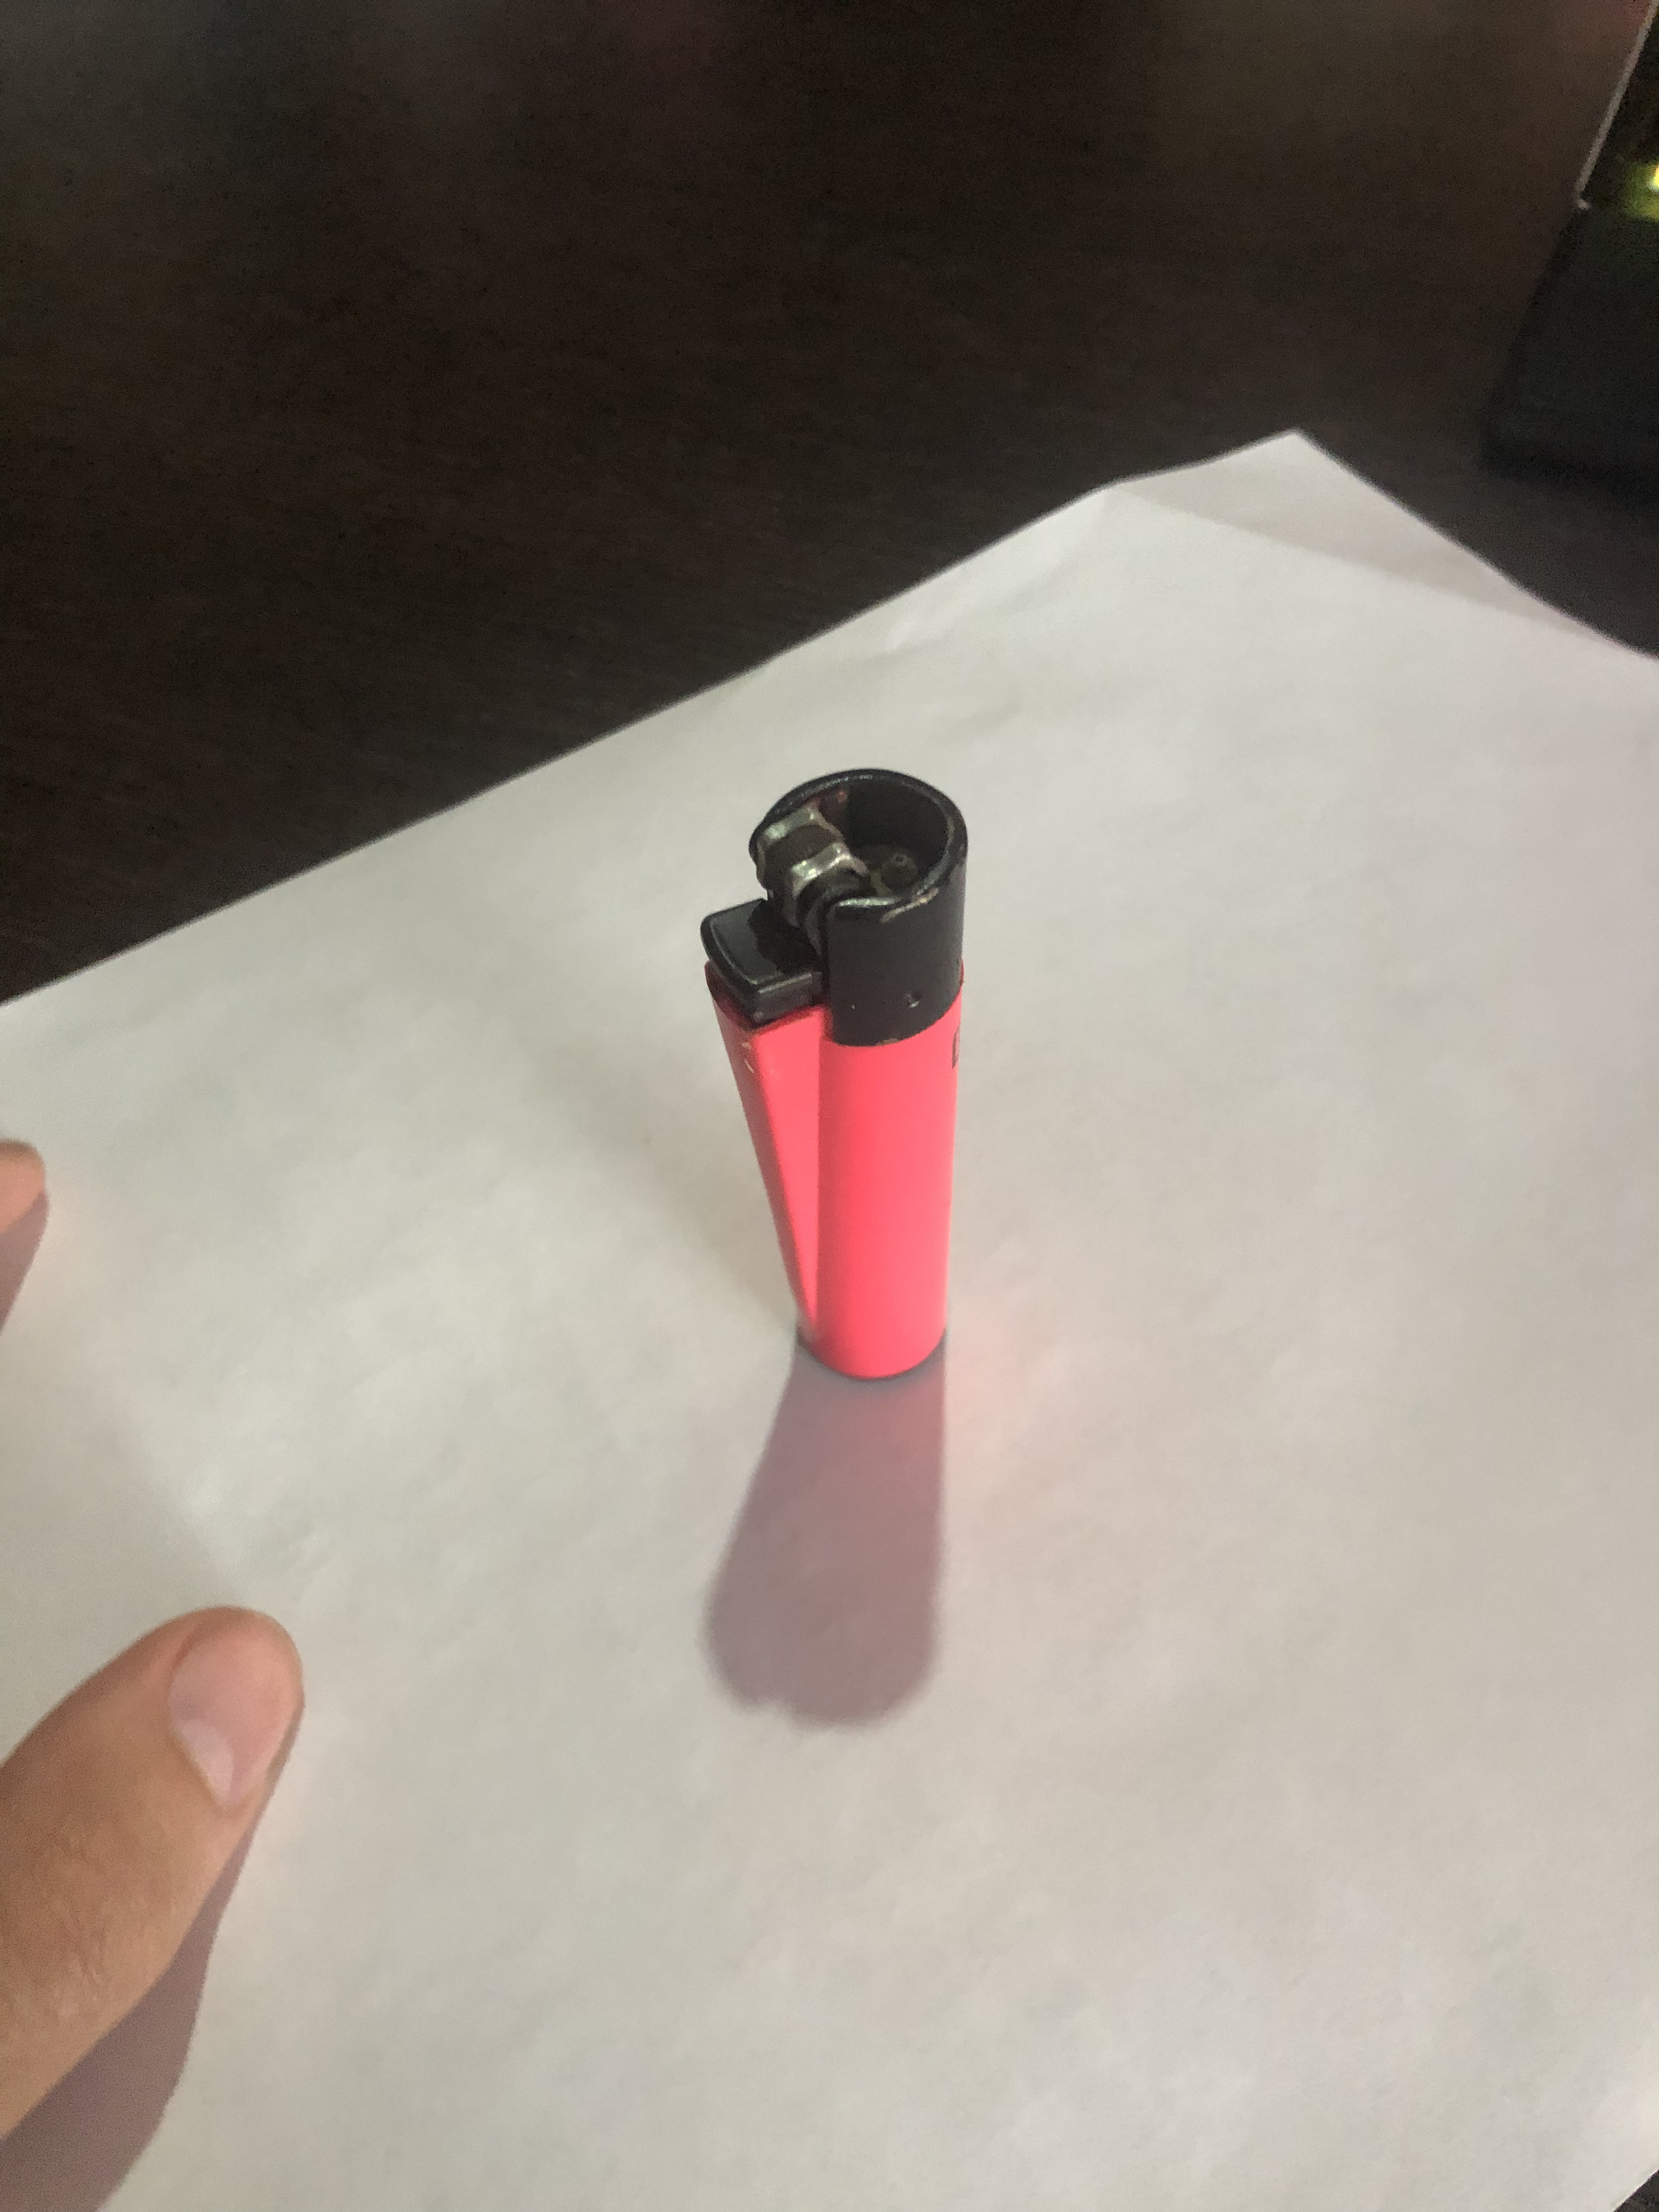Mechero: (690, 756, 988, 1406)
